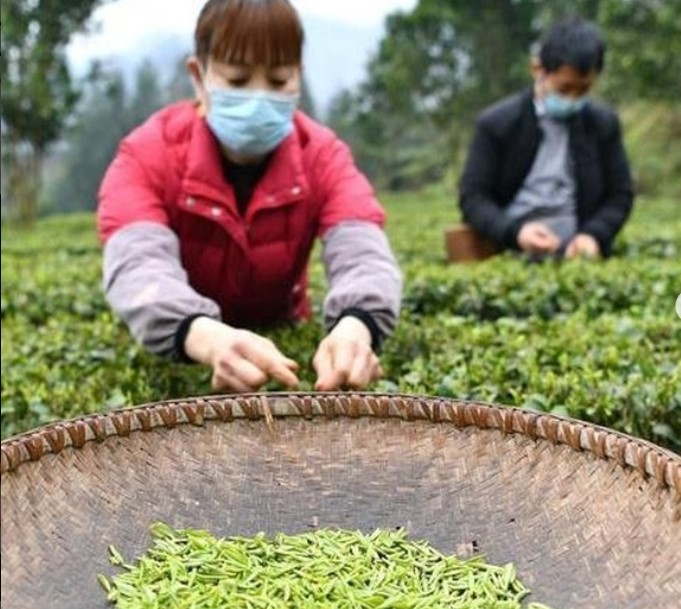face_with_mask: (183, 0, 307, 159), (537, 21, 605, 119)
